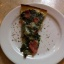pizza: (20, 3, 44, 58)
